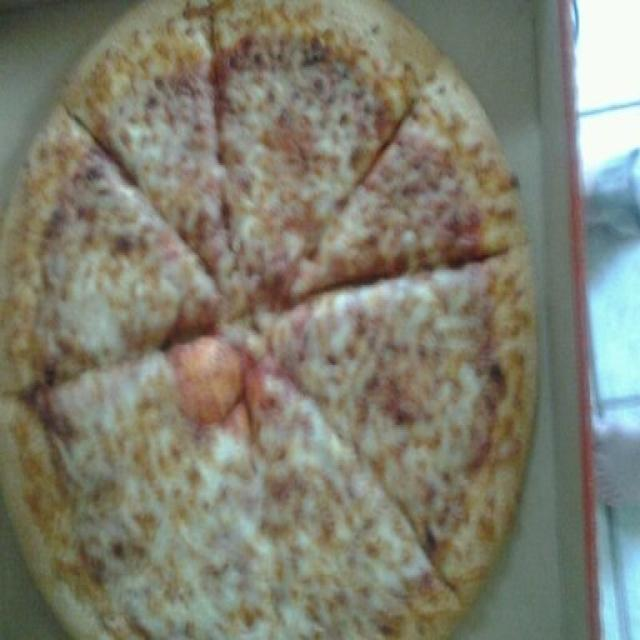Pizza: (0, 7, 538, 637)
